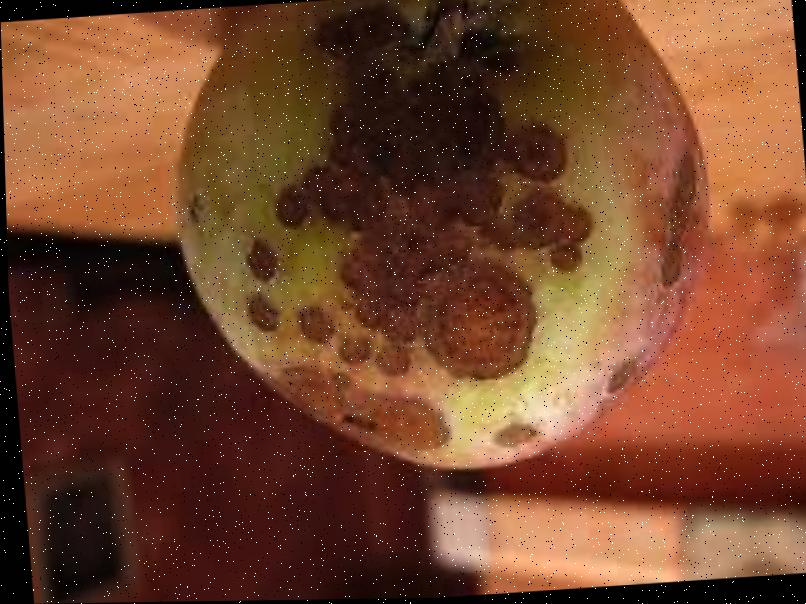SCAB: (149, 0, 748, 509)
